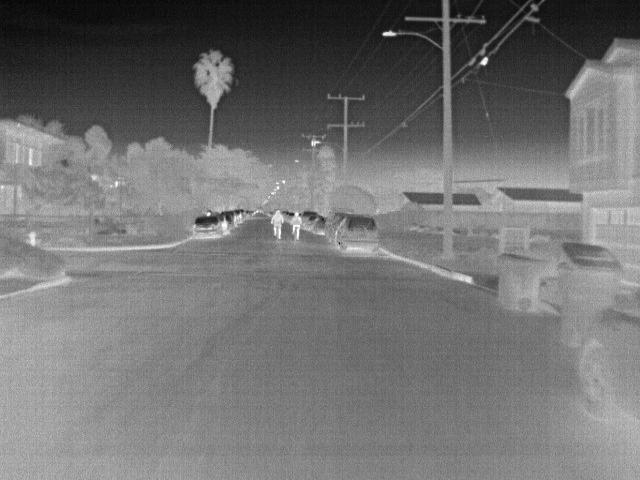car: (573, 290, 638, 426), (333, 213, 382, 255), (191, 216, 223, 240), (299, 209, 318, 232), (312, 218, 331, 234), (219, 211, 235, 227), (218, 214, 230, 232), (229, 210, 241, 223)
person: (271, 209, 285, 241), (290, 210, 303, 239)
